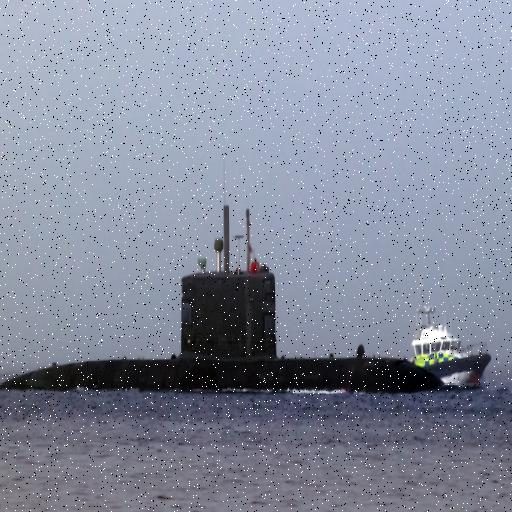submarine: (1, 206, 447, 392)
